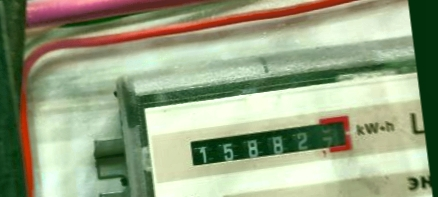1: (196, 145, 208, 164)
2: (294, 130, 309, 152)
5: (218, 142, 235, 162)
7: (319, 134, 333, 148)
8: (269, 133, 284, 156), (245, 138, 259, 159)
screen: (183, 114, 356, 175)
